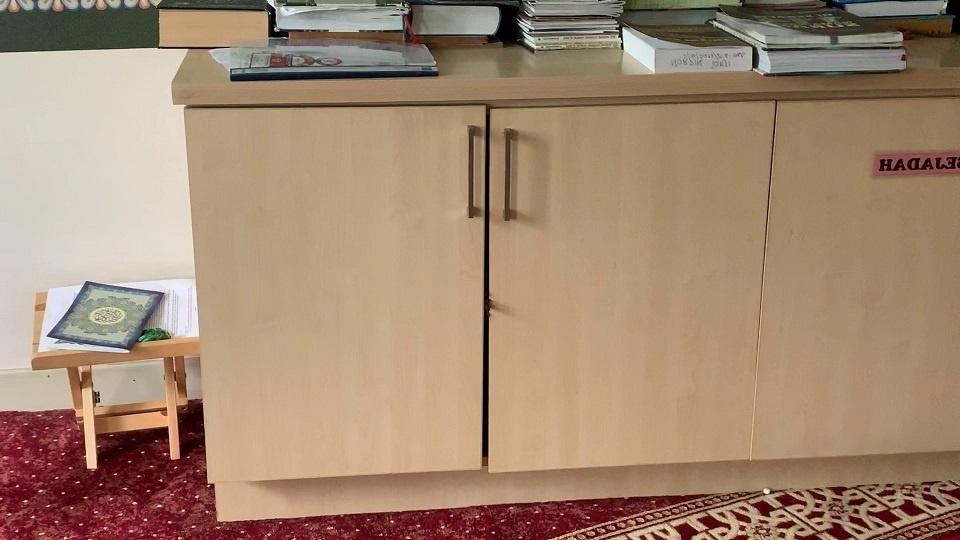cabinet_door: (200, 107, 488, 471), (489, 109, 761, 460)
handle: (499, 127, 520, 225), (461, 125, 482, 221)
